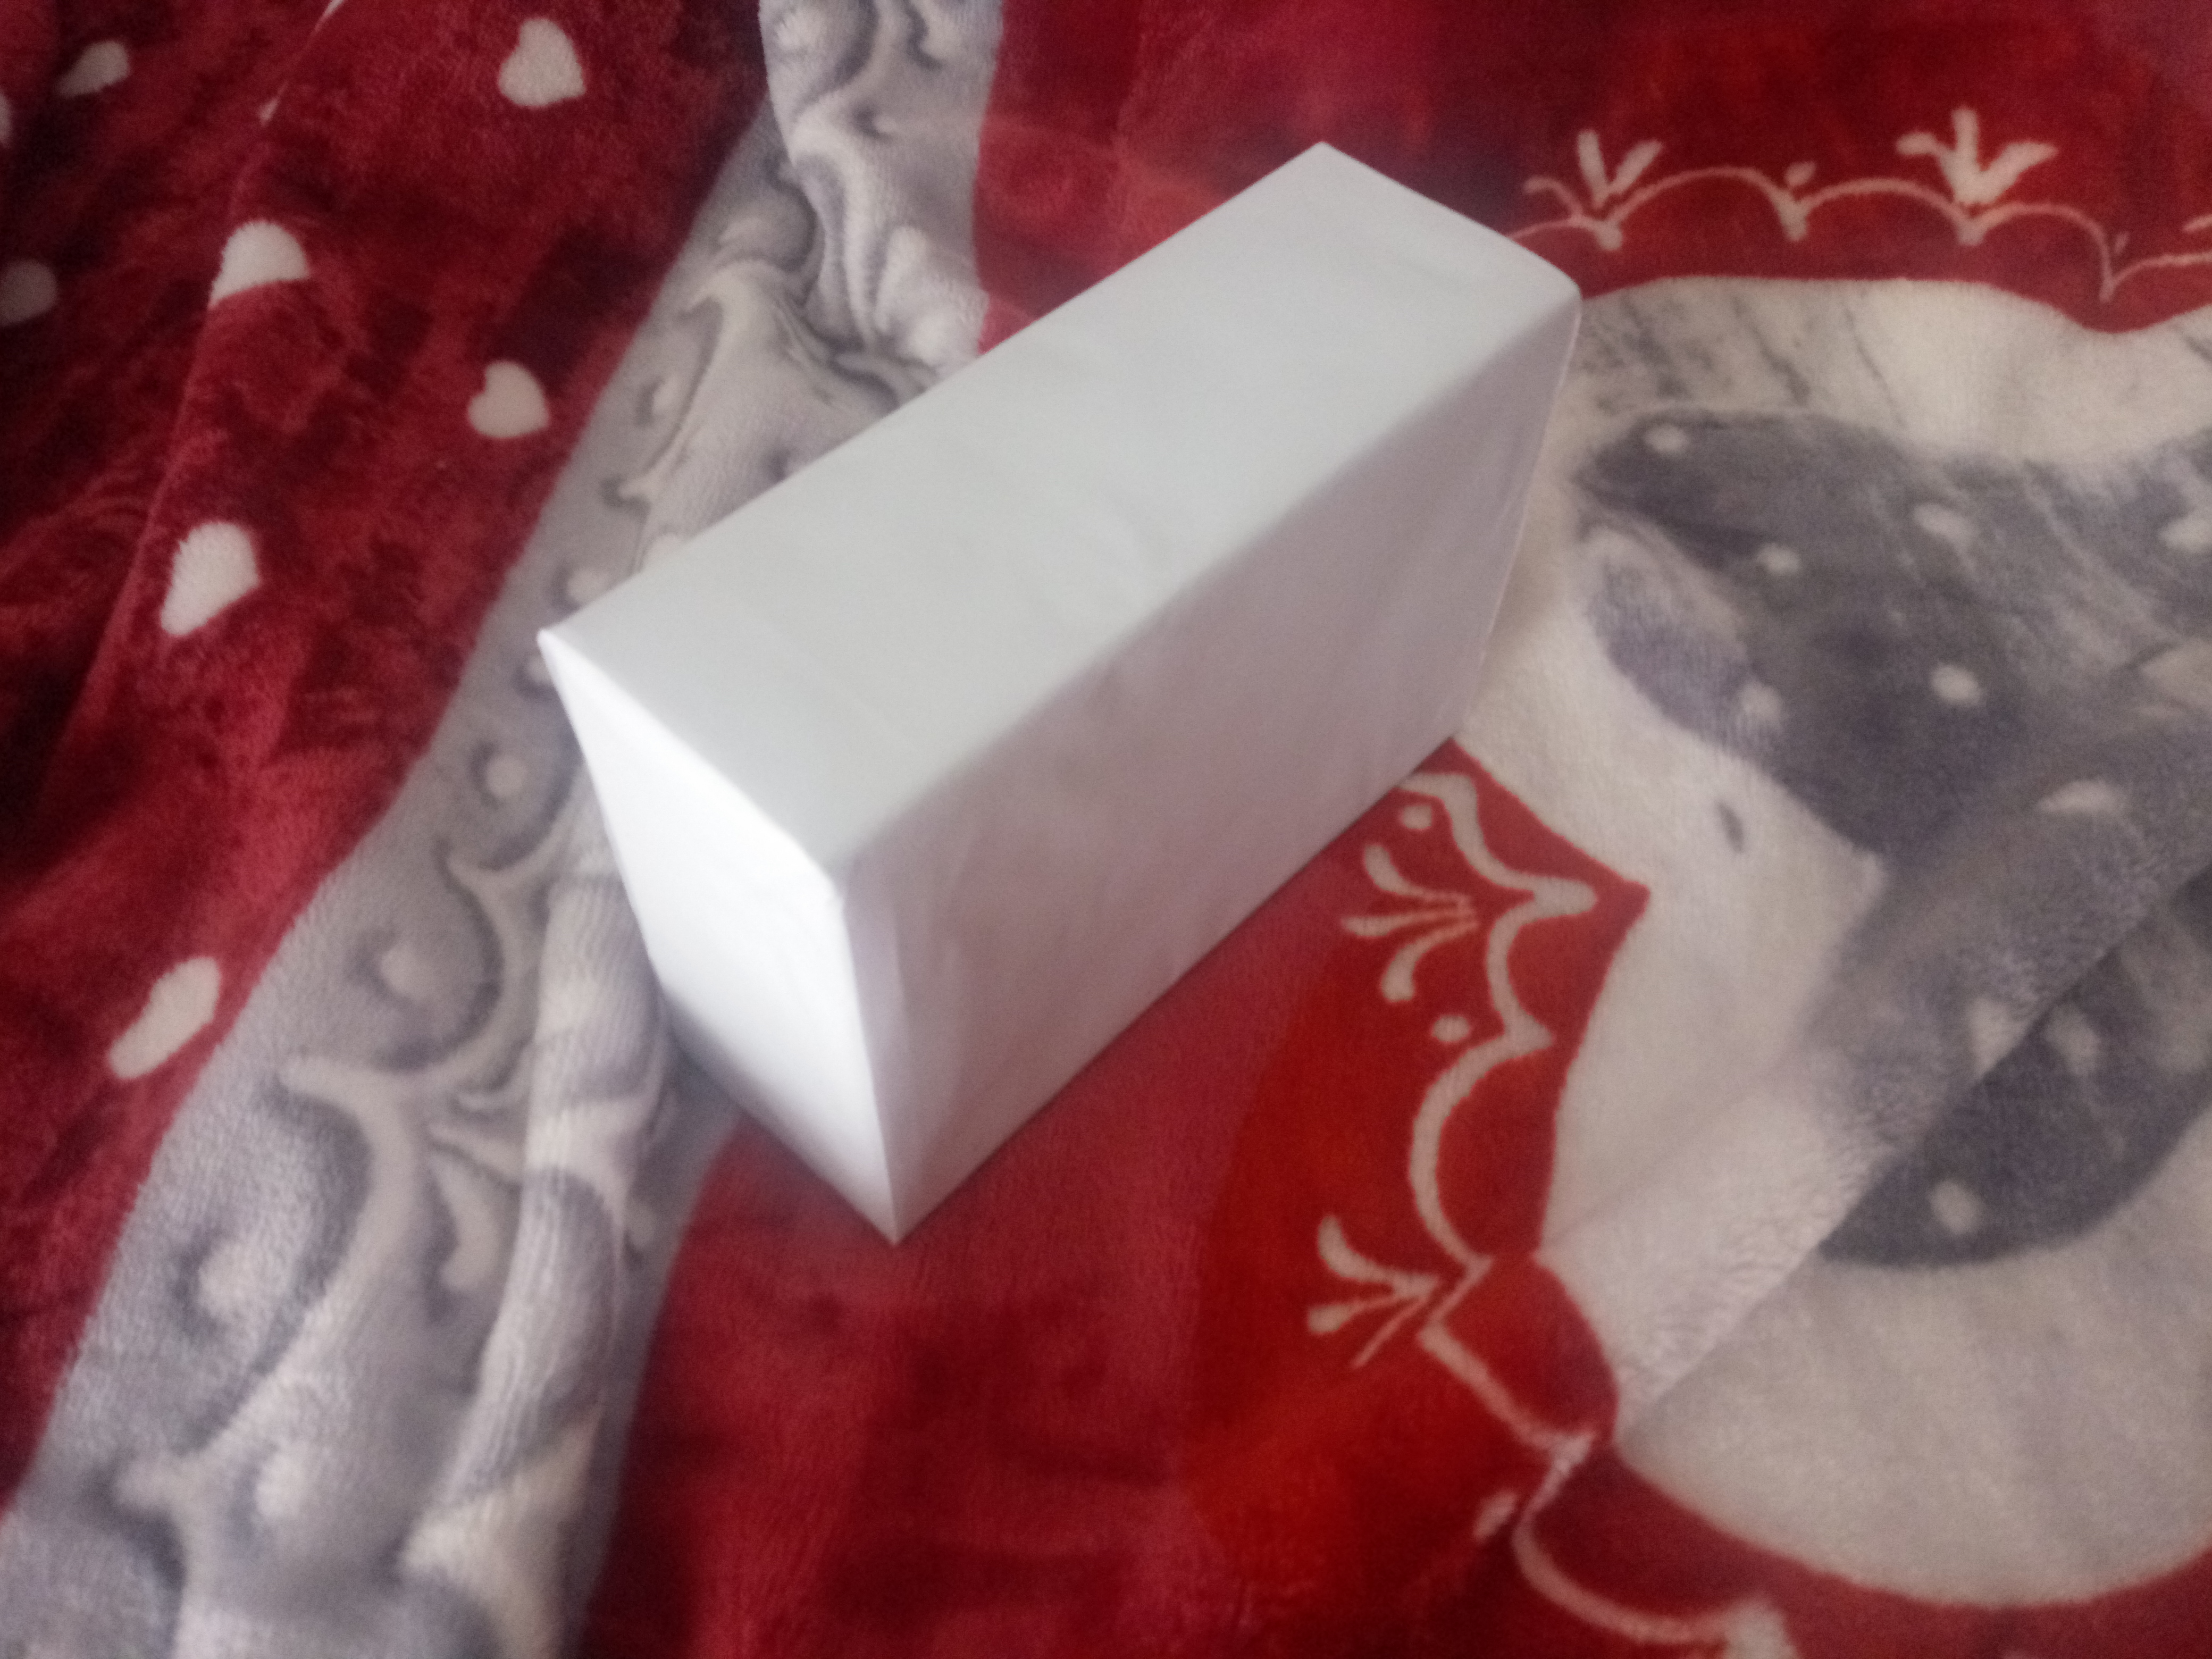white_box: (512, 120, 1649, 1284)
